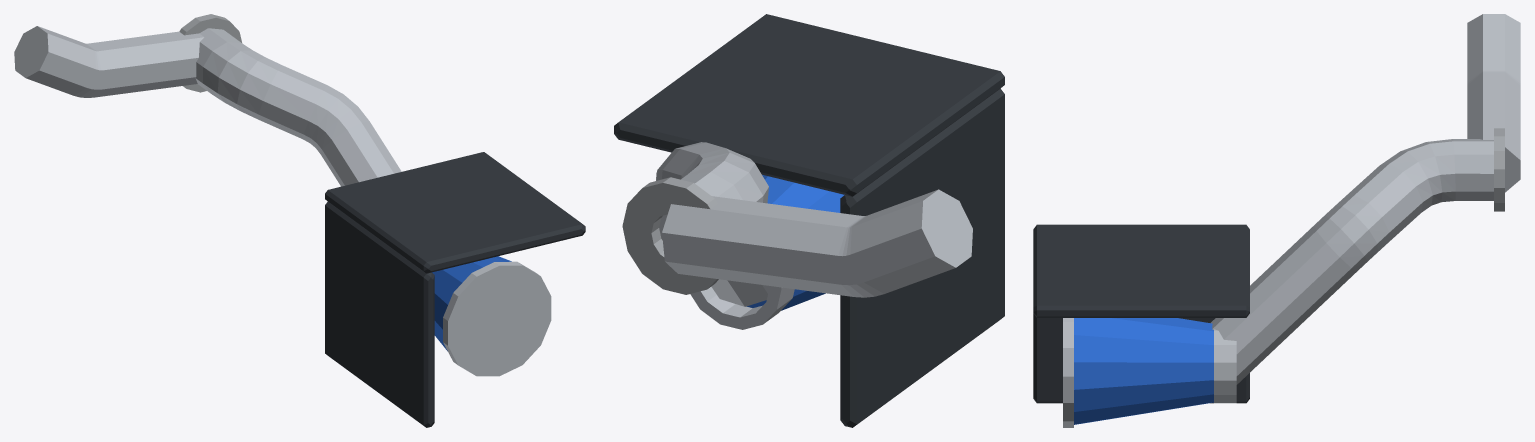
Rendered from strada_evo.glb.
3 renders of one model, left to right at view 1: azimuth 30°, elevation 25°; view 2: azimuth 150°, elevation 25°; view 3: azimuth 270°, elevation 25°, orthographic. The views are drawn at different scales.
Visible parts, largest first — view 1: model; view 2: model; view 3: model.
Boxes of the visible parts, bbox=[...] form: model: bbox=[14, 14, 585, 427]; model: bbox=[614, 14, 1004, 427]; model: bbox=[1033, 14, 1520, 427].
Size of the model in its own units: 0.4749 by 0.3655 by 0.5396.
Materials: 2 (1 with a texture image).
